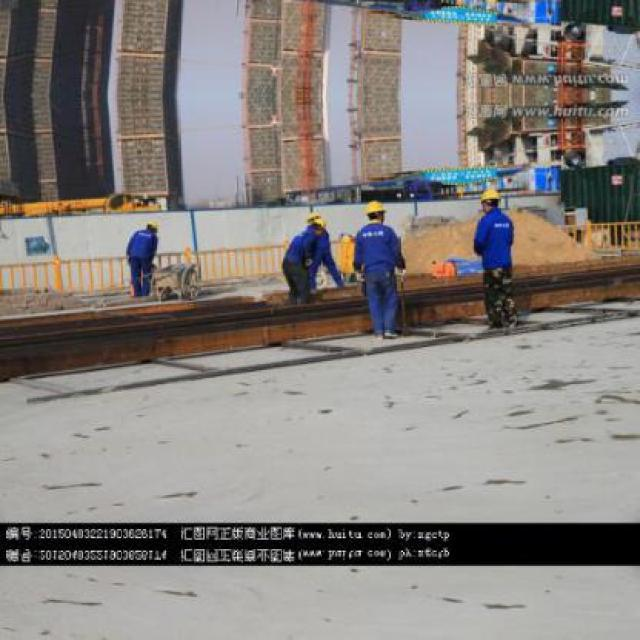helmet: (478, 186, 503, 201), (363, 198, 386, 214)
